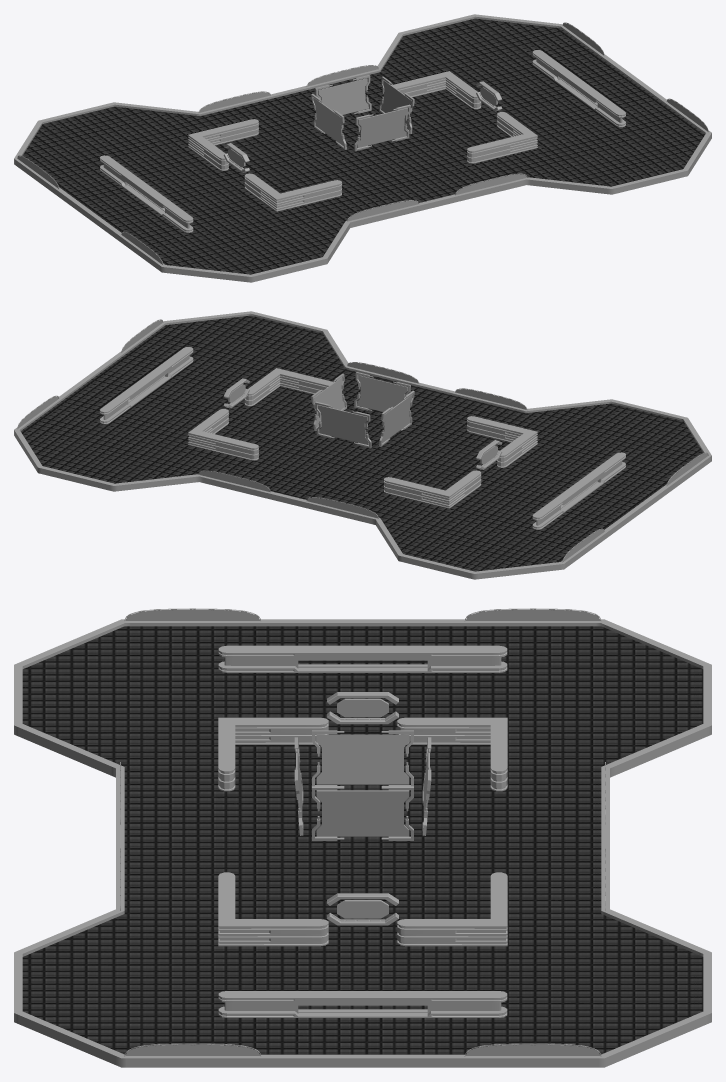
Rendered from Arena_r05.fbx.
The picture shows the model from 3 angles, top to bottom: view 1: azimuth 30°, elevation 25°; view 2: azimuth 150°, elevation 25°; view 3: azimuth 270°, elevation 25°; orthographic projection. The views are drawn at different scales.
Parts seen in each view (by area): view 1: floor_high, floor_guard_high, long_glass_wall_high, long_glass_wall_high1, angle_wall_high, angle_wall_high2, angle_wall_high1, scoreboard_v2_high, angle_wall_high3, scoreboard_v2_high1, scoreboard_v2_high3, scoreboard_v2_high2 (+6 smaller); view 2: floor_high, floor_guard_high, long_glass_wall_high, long_glass_wall_high1, angle_wall_high1, angle_wall_high3, angle_wall_high, scoreboard_v2_high1, angle_wall_high2, scoreboard_v2_high, scoreboard_v2_high3, scoreboard_v2_high2 (+6 smaller); view 3: floor_high, floor_guard_high, long_glass_wall_high, long_glass_wall_high1, scoreboard_v2_high3, scoreboard_v2_high2, angle_wall_high2, angle_wall_high3, angle_wall_high1, angle_wall_high, glass_banner_high, glass_banner_high1 (+4 smaller).
Part boxes in pixels (<box>): floor_high: <box>22,18,705,274</box>; floor_guard_high: <box>14,14,711,282</box>; long_glass_wall_high: <box>100,155,193,232</box>; long_glass_wall_high1: <box>532,50,625,127</box>; angle_wall_high: <box>244,173,341,211</box>; angle_wall_high2: <box>467,112,537,163</box>; angle_wall_high1: <box>188,119,258,170</box>; scoreboard_v2_high: <box>354,104,410,151</box>; angle_wall_high3: <box>391,71,481,109</box>; scoreboard_v2_high1: <box>315,75,371,114</box>; scoreboard_v2_high3: <box>311,93,346,149</box>; scoreboard_v2_high2: <box>379,76,414,134</box>; floor_high: <box>20,315,703,571</box>; floor_guard_high: <box>14,311,711,579</box>; long_glass_wall_high: <box>532,452,625,529</box>; long_glass_wall_high1: <box>100,347,193,424</box>; angle_wall_high1: <box>384,470,481,508</box>; angle_wall_high3: <box>188,409,258,460</box>; angle_wall_high: <box>467,416,537,467</box>; scoreboard_v2_high1: <box>315,401,371,448</box>; angle_wall_high2: <box>244,368,334,406</box>; scoreboard_v2_high: <box>354,372,410,411</box>; scoreboard_v2_high3: <box>379,390,414,446</box>; scoreboard_v2_high2: <box>311,373,346,431</box>; floor_high: <box>22,626,703,1054</box>; floor_guard_high: <box>14,619,711,1067</box>; long_glass_wall_high: <box>218,645,507,672</box>; long_glass_wall_high1: <box>218,991,507,1017</box>; scoreboard_v2_high3: <box>312,730,413,787</box>; scoreboard_v2_high2: <box>312,786,413,840</box>; angle_wall_high2: <box>218,872,328,946</box>; angle_wall_high3: <box>397,872,507,946</box>; angle_wall_high1: <box>397,717,507,791</box>; angle_wall_high: <box>218,717,328,791</box>; glass_banner_high: <box>327,893,398,925</box>; glass_banner_high1: <box>327,692,398,724</box>.
Size of the model in its own units: 30512 by 2898 by 20512.
